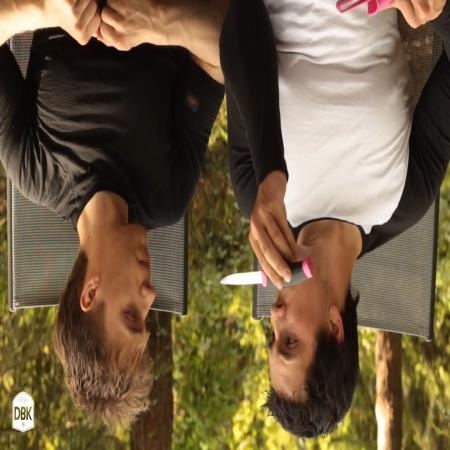long weapon: (217, 244, 320, 298)
